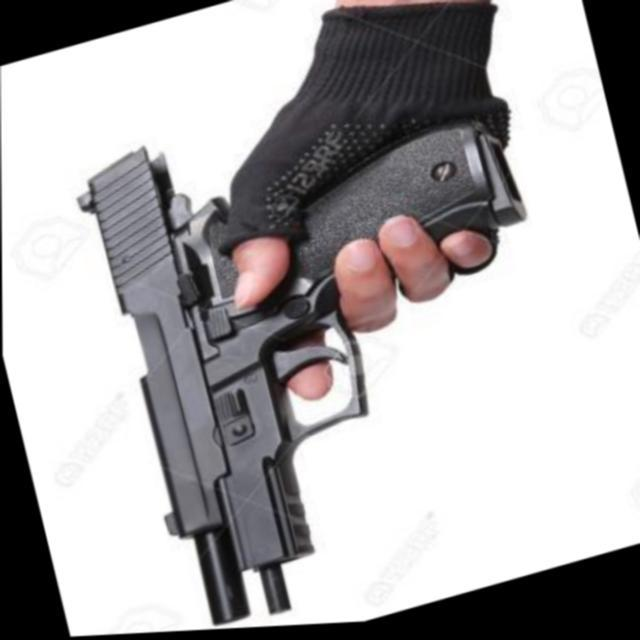weapon: (57, 37, 608, 638)
